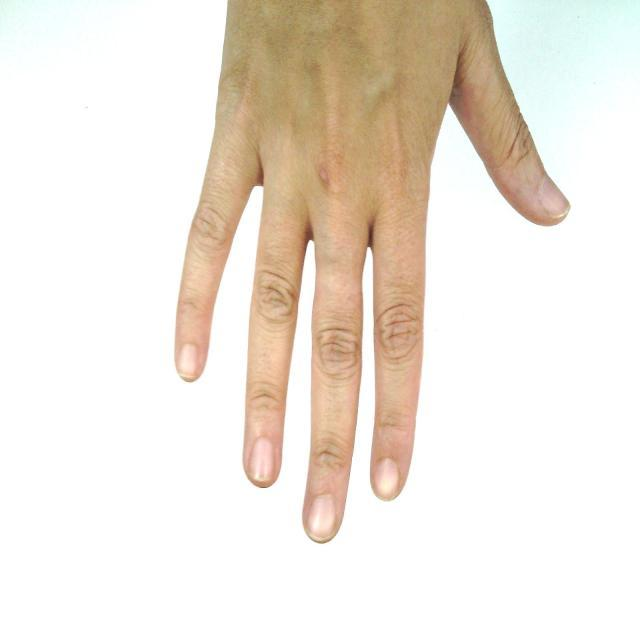Fingernail: (308, 496, 335, 539), (249, 438, 275, 481), (540, 178, 569, 214), (375, 460, 399, 500), (179, 345, 199, 375)
